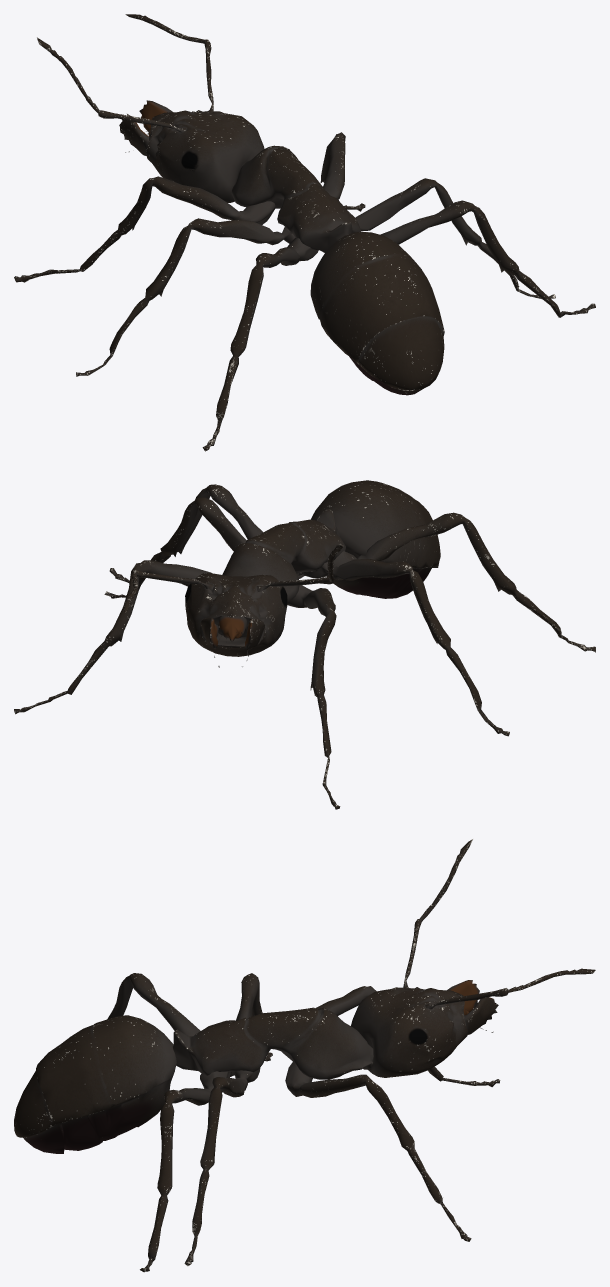
The picture shows the model from 3 angles, top to bottom: view 1: azimuth 30°, elevation 25°; view 2: azimuth 150°, elevation 25°; view 3: azimuth 270°, elevation 25°; orthographic projection. The views are drawn at different scales.
Visible parts, largest first — view 1: formica_operaia_unita_posa1_1_2; view 2: formica_operaia_unita_posa1_1_2; view 3: formica_operaia_unita_posa1_1_2.
Part boxes in pixels (x1,y1,x2,y2): formica_operaia_unita_posa1_1_2: (14,14,595,451); formica_operaia_unita_posa1_1_2: (14,480,595,809); formica_operaia_unita_posa1_1_2: (14,839,595,1272).
Bounding box in the file's own units: 2.78 × 1.46 × 3.09.
Materials: 1 (1 with a texture image).
